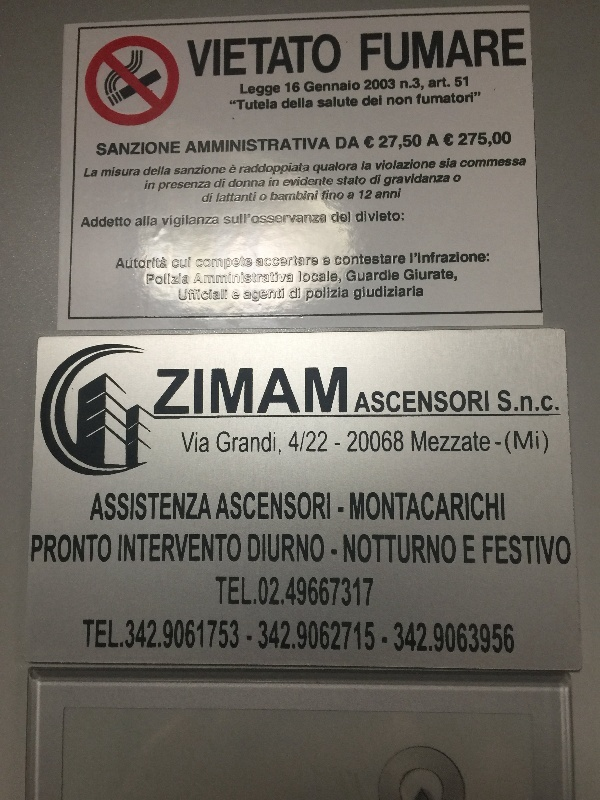text: (161, 365, 176, 416), (177, 365, 192, 416), (193, 365, 208, 416), (209, 365, 224, 416), (225, 365, 240, 416), (241, 365, 256, 416), (257, 365, 272, 416), (273, 365, 288, 416), (289, 365, 304, 416), (305, 365, 320, 416), (321, 365, 336, 416), (193, 31, 208, 80), (209, 31, 224, 80), (225, 31, 240, 80), (241, 31, 256, 80), (257, 31, 272, 80), (273, 31, 288, 80), (289, 31, 304, 80), (305, 31, 320, 80), (321, 31, 336, 80), (369, 25, 384, 73), (385, 25, 400, 73), (401, 25, 416, 73), (417, 25, 432, 73), (433, 25, 448, 73), (449, 25, 464, 73), (465, 25, 480, 73), (481, 25, 496, 73), (497, 25, 512, 73), (513, 25, 528, 73), (337, 365, 350, 416), (97, 617, 112, 650), (497, 535, 512, 568), (513, 535, 528, 568), (529, 535, 544, 568), (545, 535, 560, 568), (97, 534, 113, 564), (97, 490, 112, 522), (113, 490, 128, 522), (129, 490, 144, 522), (145, 490, 160, 522), (161, 490, 176, 522), (177, 490, 192, 522), (193, 490, 208, 522), (225, 575, 240, 607), (241, 575, 256, 607), (273, 576, 288, 608), (289, 576, 304, 608), (305, 576, 320, 608), (321, 576, 336, 608), (337, 576, 352, 608), (353, 576, 368, 608), (273, 621, 288, 653), (289, 621, 304, 653), (305, 621, 320, 653), (321, 621, 336, 653), (337, 621, 352, 653), (353, 621, 368, 653), (353, 534, 368, 566), (369, 534, 384, 566), (385, 534, 400, 566), (401, 534, 416, 566), (417, 534, 432, 566), (433, 534, 448, 566), (401, 622, 416, 654), (417, 622, 432, 654), (433, 622, 448, 654), (449, 622, 464, 654), (465, 622, 480, 654), (481, 622, 496, 654), (497, 622, 512, 654), (129, 533, 144, 564), (145, 533, 160, 564), (161, 533, 176, 564), (177, 533, 192, 564), (193, 533, 208, 564), (209, 533, 224, 564), (225, 533, 240, 564), (129, 619, 144, 650), (145, 619, 160, 650), (161, 619, 176, 650), (177, 619, 192, 650), (193, 619, 208, 650), (209, 619, 224, 650), (225, 619, 240, 650), (353, 490, 368, 521), (369, 490, 384, 521), (385, 490, 400, 521), (401, 490, 416, 521), (417, 490, 432, 521), (433, 490, 448, 521), (449, 490, 464, 521), (465, 490, 480, 521), (481, 490, 496, 521), (513, 427, 528, 458), (529, 427, 544, 458), (82, 617, 96, 650), (33, 534, 48, 564), (49, 534, 64, 564), (65, 534, 80, 564), (81, 534, 96, 564), (225, 491, 240, 521), (241, 491, 256, 521), (257, 491, 272, 521), (273, 491, 288, 521), (289, 491, 304, 521), (305, 491, 320, 521), (257, 534, 272, 563), (273, 534, 288, 563), (289, 534, 304, 563), (305, 534, 320, 563), (483, 535, 496, 568), (259, 576, 272, 608), (113, 617, 125, 650), (225, 430, 240, 456), (241, 430, 256, 456), (257, 430, 272, 456), (260, 621, 272, 653), (545, 390, 561, 414), (465, 534, 477, 566), (360, 25, 368, 73), (369, 389, 384, 414), (385, 389, 400, 414), (401, 389, 416, 414), (417, 389, 432, 414), (433, 389, 448, 414), (449, 389, 464, 414), (465, 389, 480, 414), (353, 430, 368, 455), (369, 430, 384, 455), (385, 430, 400, 455), (417, 428, 432, 453), (433, 428, 448, 453), (449, 428, 464, 453), (465, 428, 480, 453), (561, 535, 572, 568), (497, 390, 512, 414), (513, 390, 528, 414), (529, 390, 544, 414), (193, 432, 208, 455), (321, 491, 332, 521), (214, 575, 224, 607), (289, 432, 304, 453), (305, 432, 320, 453), (118, 533, 128, 564), (186, 31, 192, 80), (343, 534, 352, 566), (193, 136, 208, 155), (209, 136, 224, 155), (225, 136, 240, 155), (241, 136, 256, 155), (257, 136, 272, 155), (273, 136, 288, 155), (289, 136, 304, 155), (305, 136, 320, 155), (449, 130, 464, 149), (465, 130, 480, 149), (481, 130, 496, 149), (497, 130, 512, 149), (497, 490, 506, 521), (97, 140, 112, 158), (113, 140, 128, 158), (129, 140, 144, 158), (145, 140, 160, 158), (161, 140, 176, 158), (273, 430, 283, 456), (449, 534, 457, 566), (241, 82, 256, 99), (257, 82, 272, 99), (369, 134, 384, 151), (385, 134, 400, 151), (401, 134, 416, 151), (353, 285, 368, 302), (369, 285, 384, 302), (385, 285, 400, 302), (401, 285, 416, 302), (181, 432, 192, 455), (481, 428, 491, 453), (337, 31, 342, 80), (129, 256, 144, 272), (145, 256, 160, 272), (209, 256, 224, 272), (225, 256, 240, 272), (193, 288, 208, 304), (209, 288, 224, 304), (257, 287, 272, 303), (305, 287, 320, 303), (321, 287, 336, 303), (385, 172, 400, 188), (401, 172, 416, 188), (417, 172, 432, 188), (433, 172, 448, 188), (417, 268, 432, 284), (433, 268, 448, 284), (248, 534, 256, 563), (401, 76, 416, 91), (289, 96, 304, 111), (97, 215, 112, 230), (113, 215, 128, 230), (161, 215, 176, 230), (177, 215, 192, 230), (193, 215, 208, 230), (257, 255, 272, 270), (273, 255, 288, 270), (289, 255, 304, 270), (305, 255, 320, 270), (209, 270, 224, 285), (225, 270, 240, 285), (241, 270, 256, 285), (257, 270, 272, 285), (273, 270, 288, 285), (289, 287, 304, 302), (305, 270, 320, 285), (321, 270, 336, 285), (369, 209, 384, 224), (385, 209, 400, 224), (417, 250, 432, 265), (433, 250, 448, 265), (449, 250, 464, 265), (465, 250, 480, 265), (481, 389, 490, 414), (178, 288, 192, 304), (385, 270, 401, 284), (369, 576, 376, 608), (369, 621, 376, 653), (505, 427, 512, 458), (369, 78, 384, 92), (321, 97, 336, 111), (337, 97, 352, 111), (337, 137, 352, 151), (161, 180, 176, 194), (177, 180, 192, 194), (193, 180, 208, 194), (241, 163, 256, 177), (257, 163, 272, 177), (273, 163, 288, 177), (289, 163, 304, 177), (161, 273, 176, 287), (321, 162, 336, 176), (337, 162, 352, 176), (385, 158, 400, 172), (401, 158, 416, 172), (417, 158, 432, 172), (353, 270, 368, 284), (369, 270, 384, 284), (417, 92, 432, 106), (433, 92, 448, 106), (449, 92, 464, 106), (465, 92, 480, 106), (321, 136, 332, 155), (195, 256, 208, 272), (241, 256, 254, 272), (337, 287, 350, 303), (403, 268, 416, 284), (216, 430, 224, 456), (360, 389, 368, 414), (146, 273, 160, 287), (177, 273, 191, 287), (337, 211, 351, 225), (305, 81, 320, 94), (321, 81, 336, 94), (337, 81, 352, 94), (241, 98, 256, 111), (257, 98, 272, 111), (177, 257, 192, 270), (225, 192, 240, 205), (241, 192, 256, 205), (273, 190, 288, 203), (289, 190, 304, 203), (305, 190, 320, 203), (355, 209, 368, 224), (433, 76, 448, 89), (244, 287, 256, 303), (273, 287, 285, 303), (394, 622, 400, 654), (369, 95, 383, 108), (371, 174, 384, 188), (113, 166, 128, 178), (177, 165, 192, 177), (193, 165, 208, 177), (209, 165, 224, 177), (145, 180, 160, 192), (209, 215, 221, 230), (241, 178, 256, 190), (225, 213, 240, 225), (241, 213, 256, 225), (257, 213, 272, 225), (273, 213, 288, 225), (289, 213, 304, 225), (305, 213, 320, 225), (196, 270, 208, 285), (337, 254, 352, 266), (353, 254, 368, 266), (369, 254, 384, 266), (385, 254, 400, 266), (465, 157, 480, 169), (481, 157, 496, 169), (497, 157, 512, 169), (289, 81, 301, 95), (322, 256, 336, 268), (513, 157, 527, 169), (321, 432, 329, 453), (145, 166, 160, 177), (85, 215, 96, 230), (289, 177, 304, 188), (305, 177, 320, 188), (385, 189, 400, 200), (353, 177, 369, 187), (449, 268, 459, 284), (387, 95, 400, 107), (401, 95, 414, 107), (129, 166, 142, 178), (145, 216, 158, 228), (385, 78, 396, 92), (322, 190, 336, 201), (273, 82, 282, 99), (157, 365, 160, 416), (337, 177, 352, 187), (481, 250, 491, 265), (454, 75, 464, 90), (119, 256, 128, 272), (229, 98, 240, 111), (321, 177, 334, 188), (433, 132, 441, 149), (417, 285, 425, 302), (417, 76, 426, 91), (305, 96, 314, 111), (85, 167, 96, 179), (229, 178, 240, 190), (453, 173, 464, 185), (161, 256, 169, 272), (375, 158, 384, 172), (439, 157, 448, 171), (449, 157, 458, 171), (347, 430, 352, 455), (411, 428, 416, 453), (545, 427, 549, 458), (102, 166, 112, 178), (260, 193, 272, 203), (220, 491, 224, 521), (353, 81, 362, 94), (359, 189, 368, 202), (339, 504, 352, 513), (321, 534, 325, 563), (442, 130, 448, 149), (353, 137, 361, 151), (161, 166, 171, 177), (229, 164, 240, 174), (135, 216, 144, 228), (215, 178, 224, 190), (257, 178, 266, 190), (231, 290, 240, 302), (281, 96, 288, 111), (417, 134, 423, 151), (401, 430, 405, 455), (313, 162, 320, 176), (209, 490, 212, 522), (513, 622, 516, 654), (361, 95, 368, 108), (289, 270, 295, 285), (298, 270, 304, 285), (410, 250, 416, 265), (273, 178, 281, 189), (337, 190, 345, 201), (376, 189, 384, 200), (353, 97, 359, 111), (305, 163, 311, 177), (321, 213, 328, 225), (353, 162, 359, 176), (330, 211, 336, 225), (346, 270, 352, 284), (273, 98, 279, 111), (218, 192, 224, 205), (337, 270, 342, 285), (465, 75, 470, 90), (177, 140, 181, 158), (362, 160, 368, 172), (401, 254, 407, 266), (246, 635, 256, 642), (364, 134, 368, 151), (203, 192, 208, 205), (209, 192, 214, 205), (369, 189, 374, 202), (225, 288, 229, 304), (257, 575, 259, 607), (126, 619, 128, 650), (350, 490, 352, 521), (401, 209, 405, 224), (189, 136, 192, 155), (284, 81, 288, 95), (364, 78, 368, 92), (433, 158, 437, 172), (428, 76, 432, 89), (369, 160, 373, 172), (460, 157, 464, 169), (497, 440, 503, 448), (129, 215, 132, 230), (331, 548, 336, 557), (284, 177, 288, 188), (317, 97, 320, 111), (209, 180, 212, 194), (173, 257, 176, 270), (349, 189, 352, 202), (353, 189, 356, 202), (430, 132, 432, 149), (269, 178, 272, 189), (449, 172, 451, 188), (95, 490, 96, 522), (463, 534, 464, 566), (241, 533, 242, 564), (337, 442, 341, 449), (385, 636, 388, 645), (449, 76, 451, 89), (97, 167, 99, 179), (225, 165, 227, 177), (225, 178, 227, 190), (334, 254, 336, 266), (209, 432, 210, 455), (401, 189, 403, 200), (287, 432, 288, 453), (513, 130, 514, 149), (337, 548, 339, 557), (382, 636, 384, 645), (334, 442, 336, 449), (481, 92, 482, 106), (257, 192, 258, 205), (175, 165, 176, 177), (495, 440, 496, 448)
